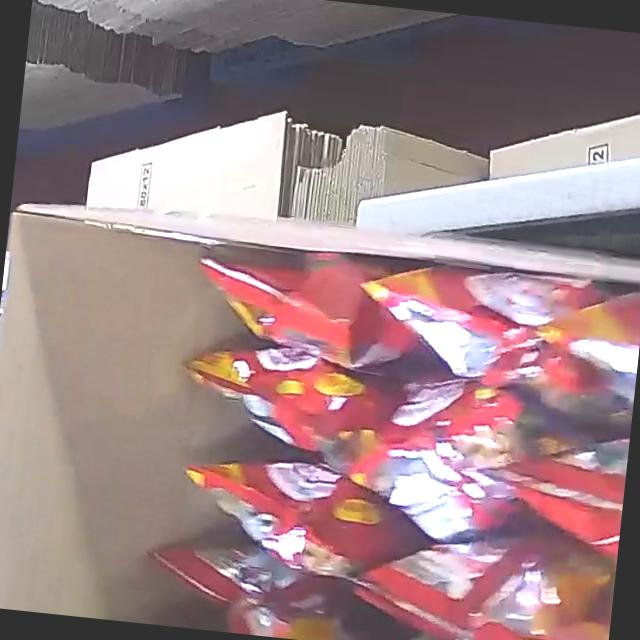masala: (140, 230, 640, 640)
